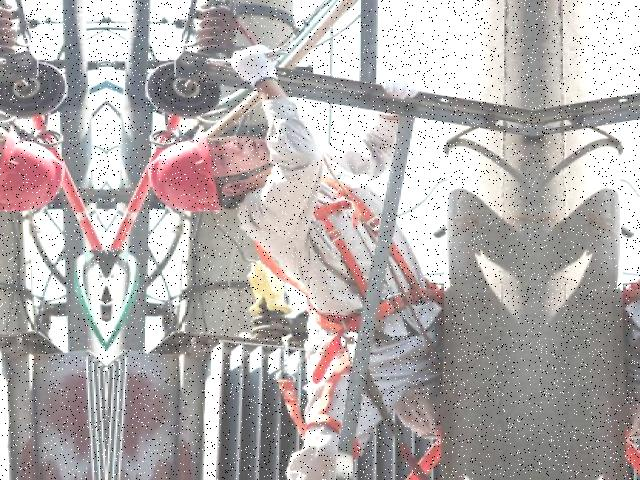Helmet: (136, 125, 225, 222)
